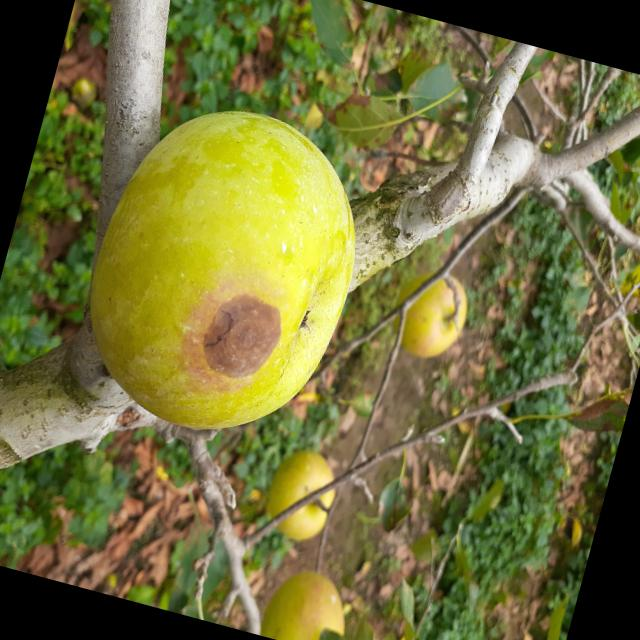rotten: (53, 73, 394, 469)
